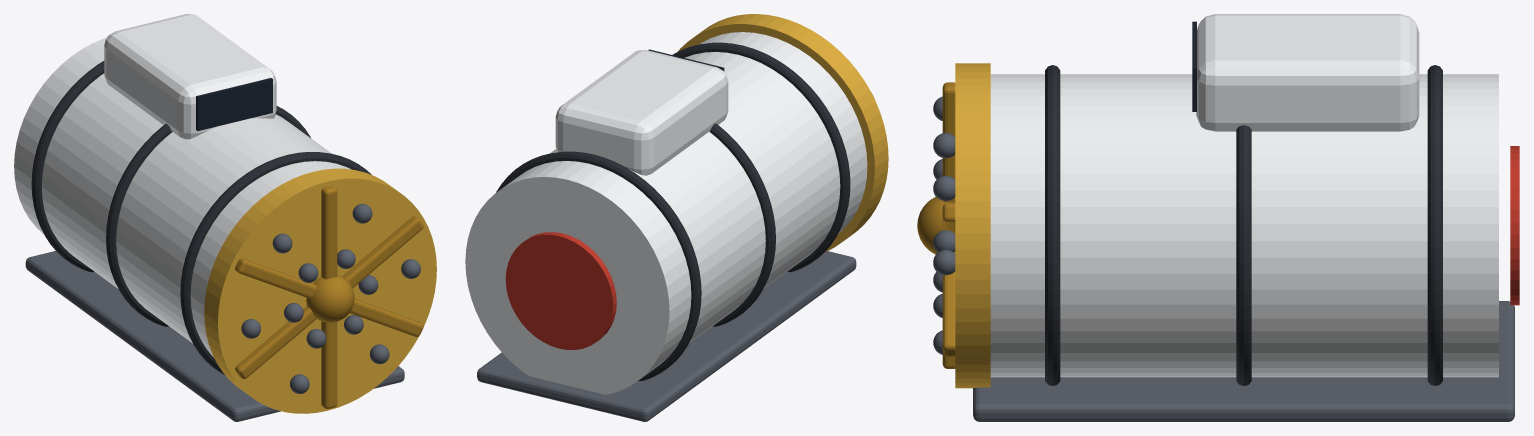
The model's file is tuneladora.glb.
3 renders of one model, left to right at view 1: azimuth 30°, elevation 25°; view 2: azimuth 150°, elevation 25°; view 3: azimuth 270°, elevation 25°, orthographic. The views are drawn at different scales.
Parts seen in each view (by area): view 1: cabeza, Cylinder, Cube, Cube.002, Torus.001, Cube.001, Torus.002, Torus.003; view 2: Cylinder, Cube, Cube.002, Cylinder.001, cabeza, Torus.003, Torus.001, Torus.002; view 3: Cylinder, Cube, Cube.002, cabeza, Torus.001, Torus.003, Torus.002, Cylinder.001.
Part boxes in pixels (x1,y1,x2,y2): cabeza: (204, 168, 436, 413); Cylinder: (14, 37, 351, 357); Cube: (104, 14, 276, 139); Cube.002: (25, 251, 404, 421); Torus.001: (180, 152, 371, 375); Cube.001: (196, 78, 272, 130); Torus.002: (106, 106, 310, 326); Torus.003: (31, 61, 104, 272); Cylinder: (465, 32, 867, 394); Cube: (555, 50, 728, 175); Cube.002: (477, 251, 856, 421); Cylinder.001: (505, 232, 616, 349); cabeza: (678, 14, 888, 252); Torus.003: (496, 151, 701, 380); Torus.001: (672, 42, 850, 272); Torus.002: (709, 123, 775, 326); Cylinder: (990, 74, 1498, 377); Cube: (1196, 14, 1419, 131); Cube.002: (973, 301, 1514, 421); cabeza: (917, 63, 990, 388); Torus.001: (1045, 65, 1060, 385); Torus.003: (1427, 65, 1442, 385); Torus.002: (1236, 125, 1251, 385); Cylinder.001: (1510, 146, 1519, 305).
Size of the model in its own units: 2.04 by 2.32 by 3.78.
